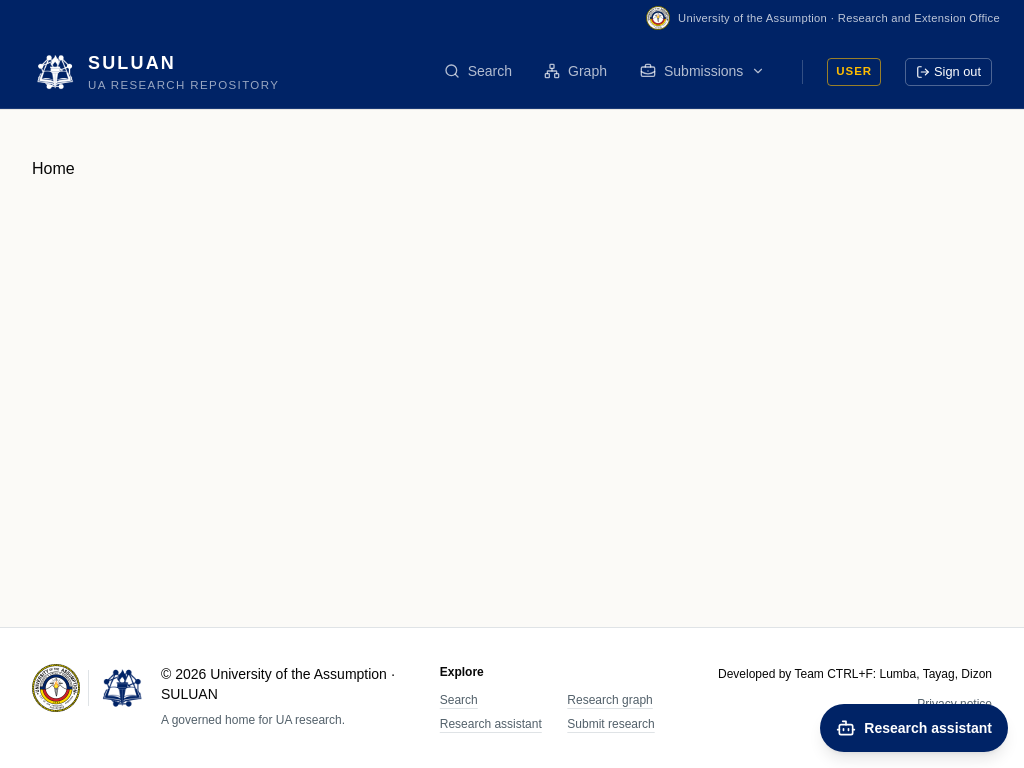
Test: shows a short confirmation after successful sign-out
Click the button "Sign out" at (948, 72), box top-left (905, 58), bottom-right (992, 86)
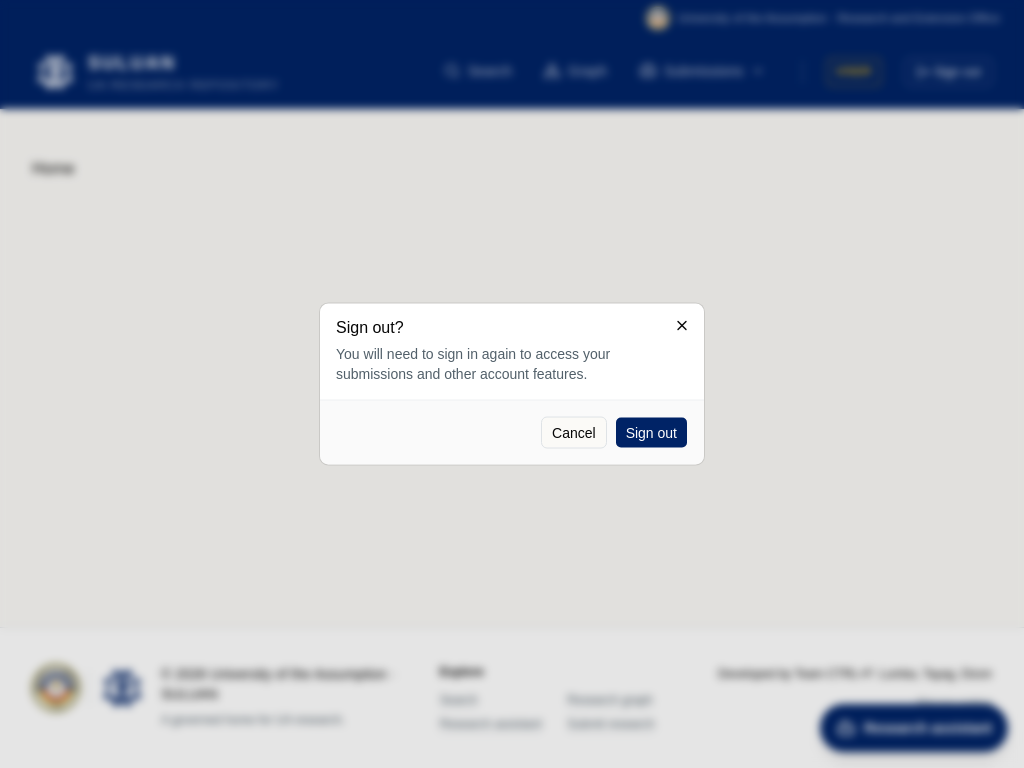
Click the button "Sign out" at (651, 432), box top-left (615, 416), bottom-right (688, 448)
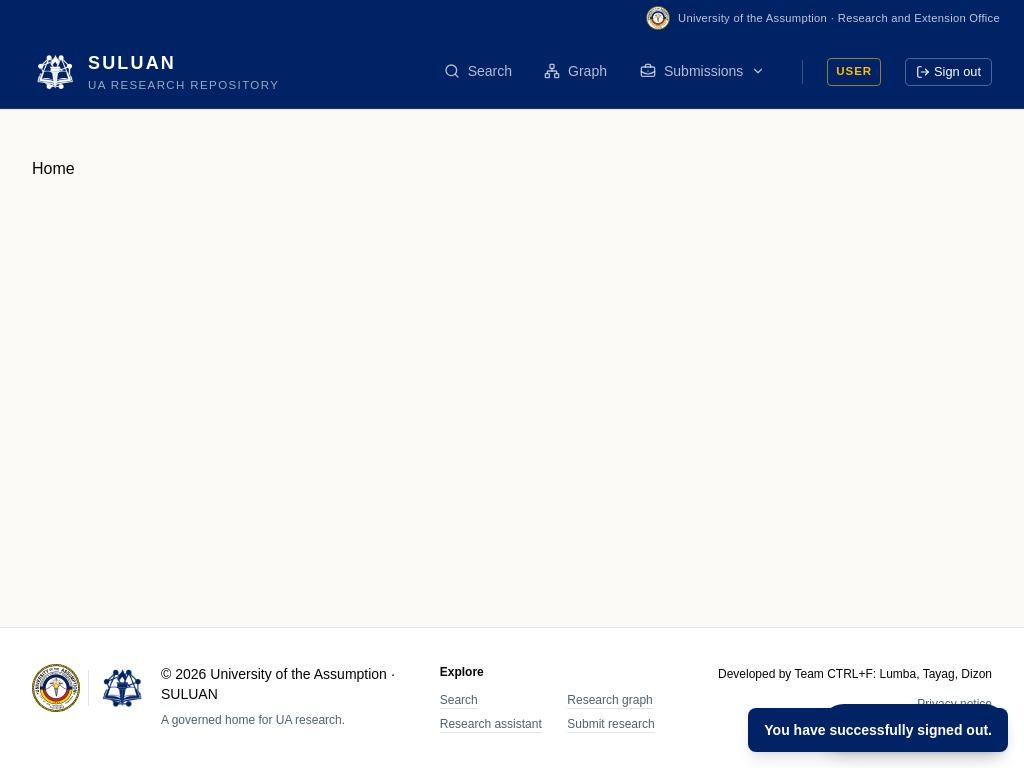
Expected: the text "You have successfully signed out." is shown, top-left (748, 708), bottom-right (1008, 752)
